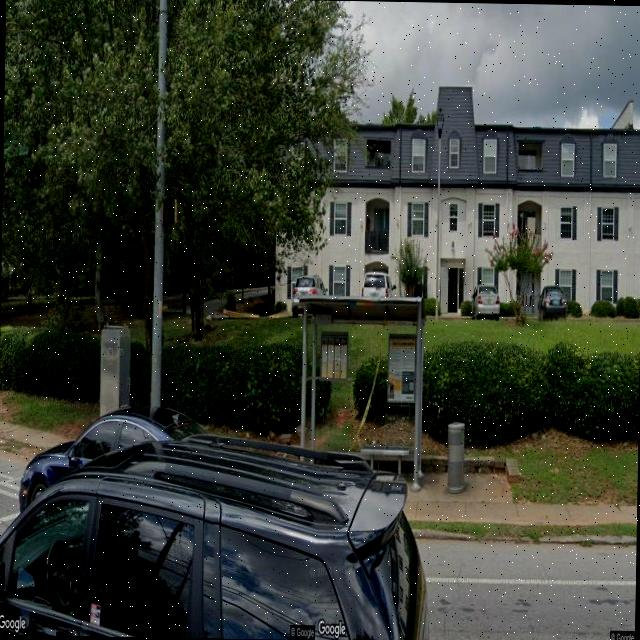seating: (362, 443, 409, 479)
shelter: (290, 292, 426, 492)
trash_can: (446, 420, 465, 492)
